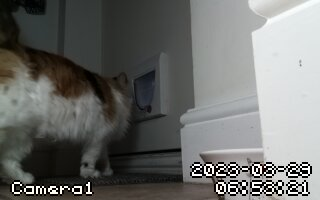clara: (3, 44, 136, 188)
